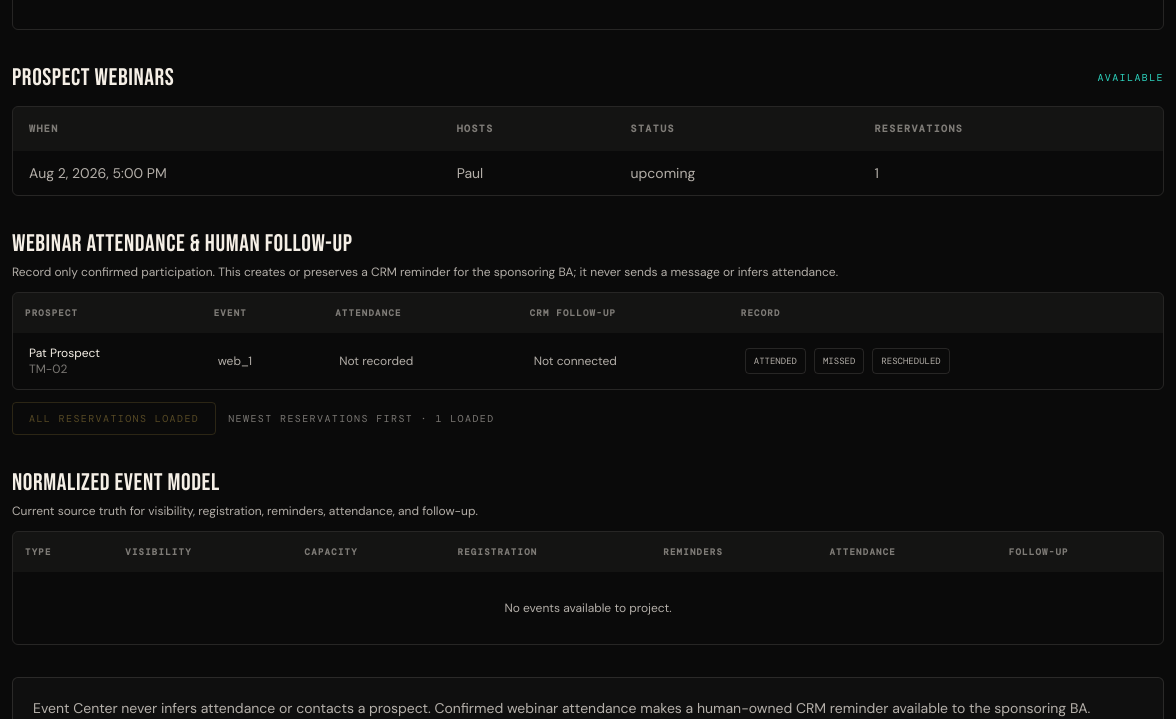
Test: Admin Event Center › records confirmed attendance and explains that contact is not automated
The width and height of the screenshot is (1176, 719).
(page scrolled)
Click the button "attended": click(775, 360) [745, 348, 806, 374]
(page scrolled)
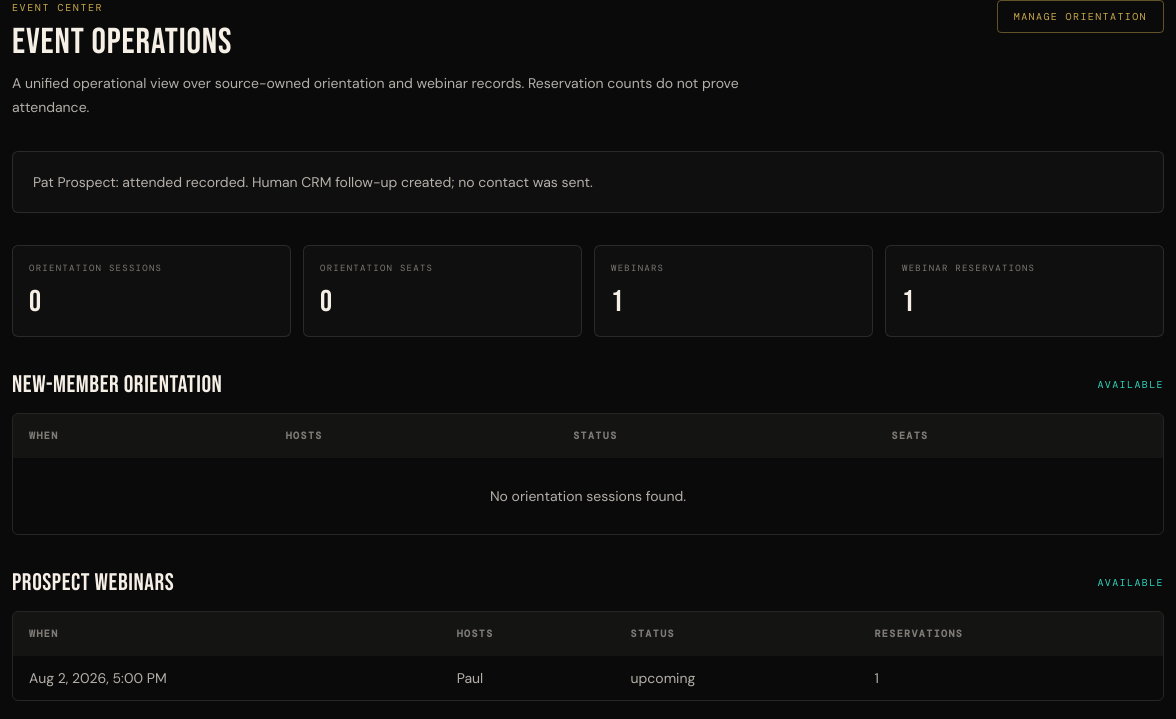
Check: the text "Human CRM follow-up created; no contact was sent" is shown, box [33, 173, 593, 191]
